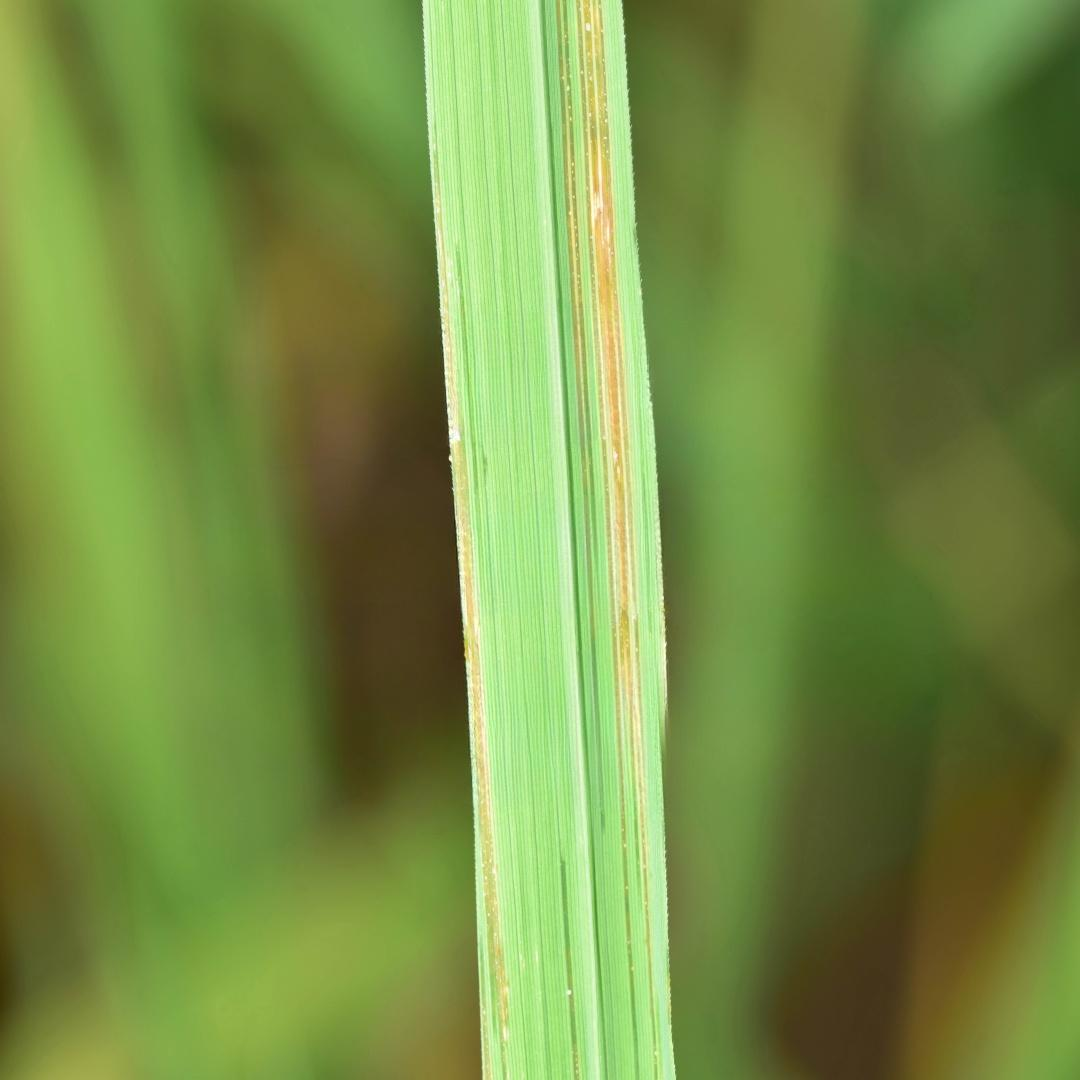BLS: (574, 0, 664, 1079), (423, 1, 509, 1079), (555, 0, 606, 879), (560, 860, 579, 1079)
LEAF: (423, 0, 674, 1079)
